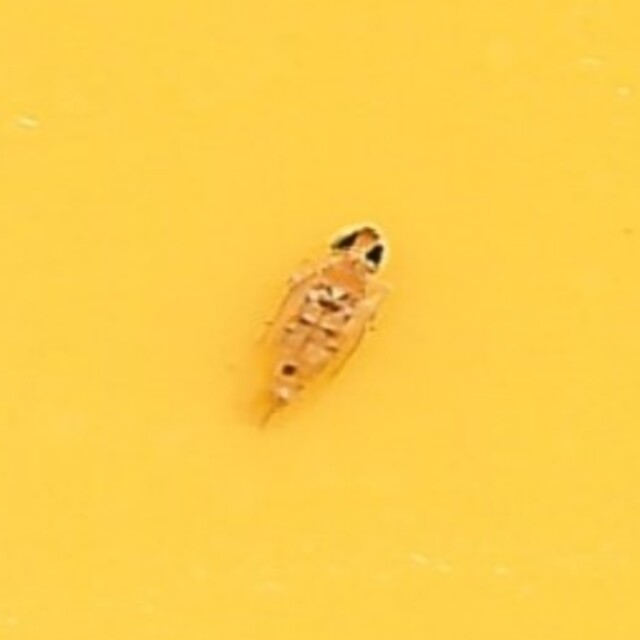Hemiptera: (252, 216, 388, 424)
